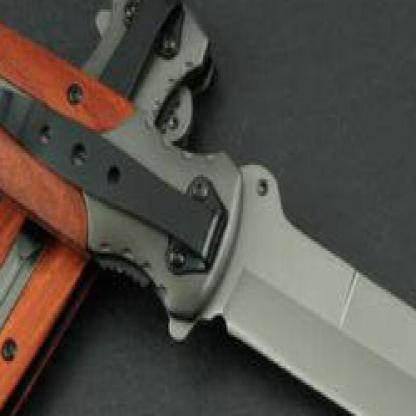knife: (226, 224, 414, 414)
